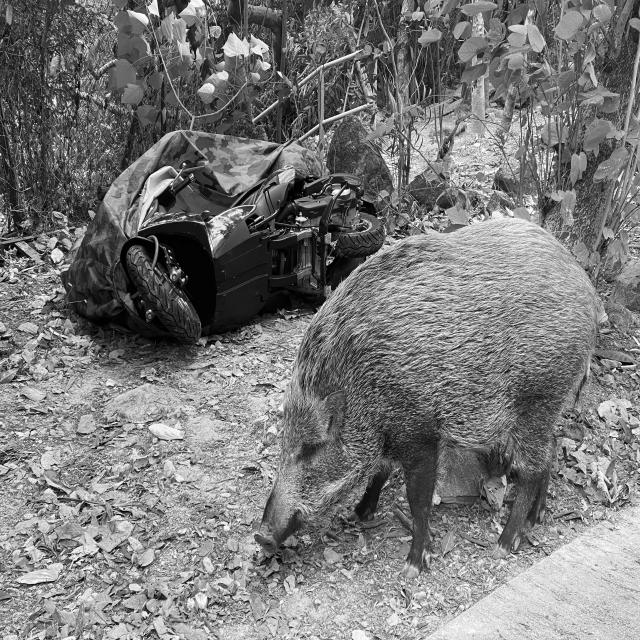boar: (256, 219, 601, 577)
